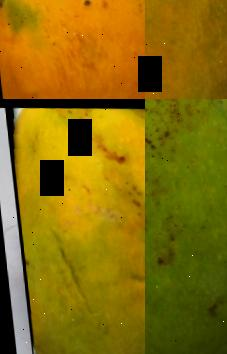PartiallyRipe: (7, 99, 145, 354), (145, 0, 227, 99)
Ripe: (0, 0, 145, 99)
Unripe: (145, 99, 227, 354)
